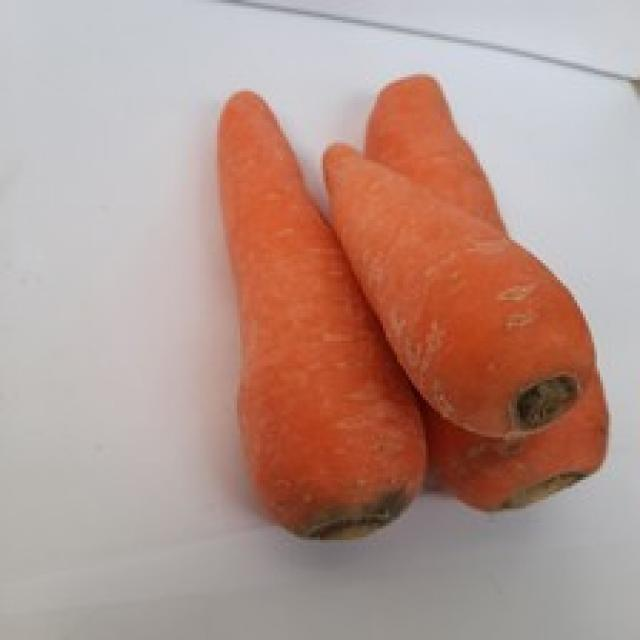carrot: (358, 74, 607, 518), (218, 88, 420, 546), (321, 136, 597, 440)
